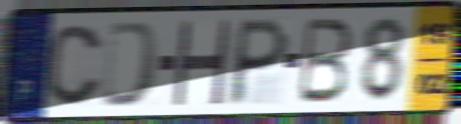8: (359, 15, 409, 104)
B: (295, 16, 355, 106)
C: (44, 22, 105, 109)
D: (99, 19, 162, 110)
H: (169, 18, 234, 107)
P: (224, 15, 293, 109)
